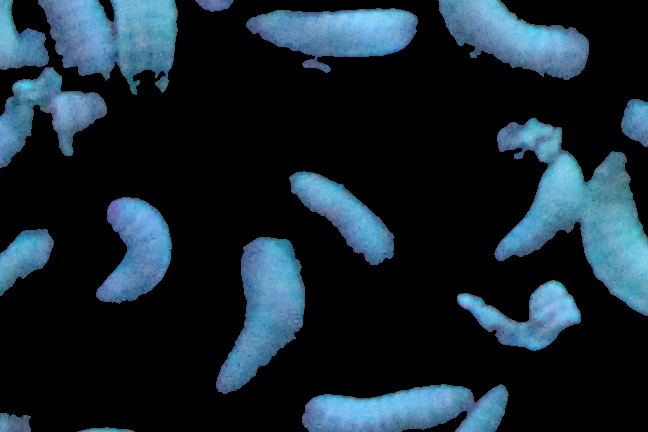larvae: (217, 230, 307, 397), (434, 1, 591, 81), (583, 148, 648, 326), (494, 151, 585, 263), (289, 170, 398, 263), (94, 196, 174, 316), (244, 6, 421, 56), (305, 384, 475, 432), (42, 1, 119, 77), (117, 1, 181, 91), (1, 228, 55, 314)
